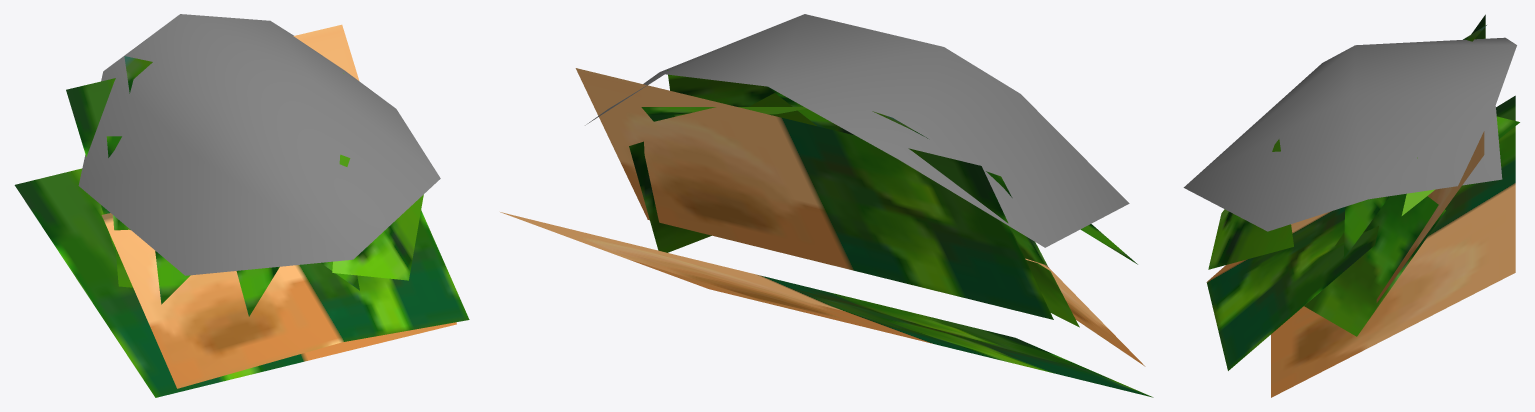
Rendered from fg_bushD_2_s.dae.
The picture shows the model from 3 angles, left to right: view 1: azimuth 30°, elevation 25°; view 2: azimuth 150°, elevation 25°; view 3: azimuth 270°, elevation 25°; orthographic projection. The views are drawn at different scales.
Parts seen in each view (by area): view 1: fg_bushD_2_s; view 2: fg_bushD_2_s; view 3: fg_bushD_2_s.
Part boxes in pixels (<box>): fg_bushD_2_s: <box>14,14,469,397</box>; fg_bushD_2_s: <box>500,14,1153,397</box>; fg_bushD_2_s: <box>1183,14,1519,397</box>.
Size of the model in its own units: 47.83 by 34.27 by 38.41.
1 material, 1 textured.
